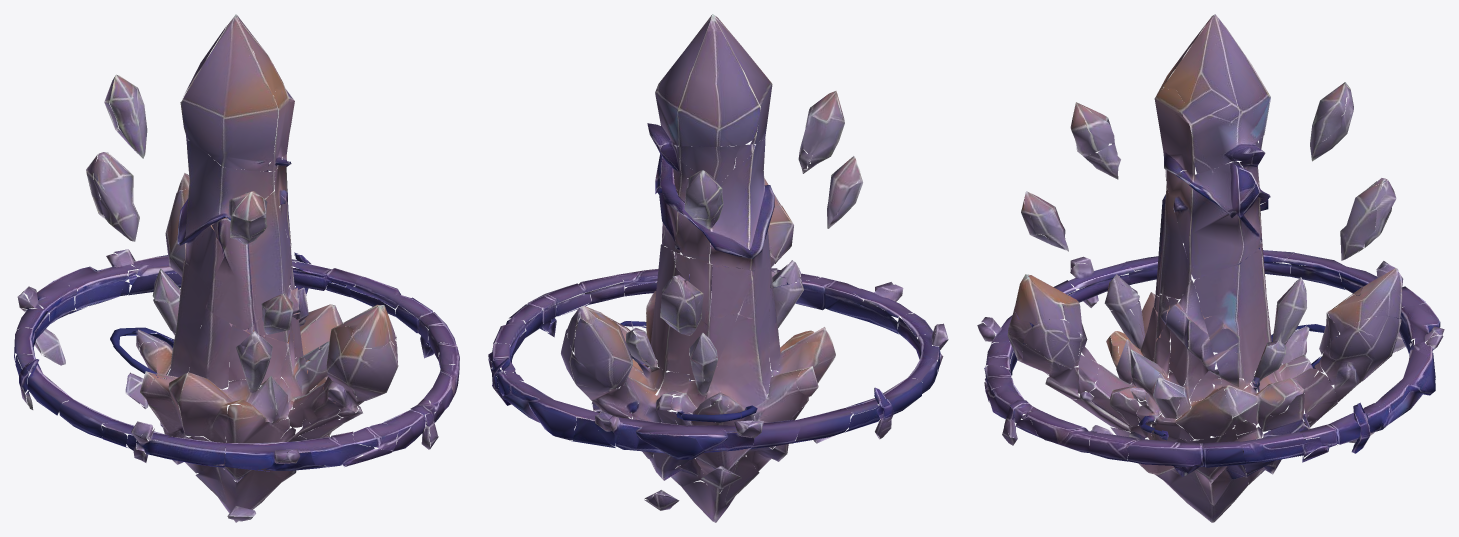
The model's file is cristal-ancora-violeta.glb.
3 views of the same model, side by side, from view 1: azimuth 30°, elevation 25°; view 2: azimuth 150°, elevation 25°; view 3: azimuth 270°, elevation 25° (orthographic).
Visible parts, largest first — view 1: tripo_node_f24db50d-35b1-4d30-9855-d3dcf1b829f6; view 2: tripo_node_f24db50d-35b1-4d30-9855-d3dcf1b829f6; view 3: tripo_node_f24db50d-35b1-4d30-9855-d3dcf1b829f6.
Boxes of the visible parts, x1,y1,x2,y2 form: tripo_node_f24db50d-35b1-4d30-9855-d3dcf1b829f6: (14, 14, 459, 522); tripo_node_f24db50d-35b1-4d30-9855-d3dcf1b829f6: (488, 14, 948, 522); tripo_node_f24db50d-35b1-4d30-9855-d3dcf1b829f6: (977, 14, 1444, 522).
Bounding box in the file's own units: 0.8072 × 1 × 0.8341.
Materials: 1 (1 with a texture image).
